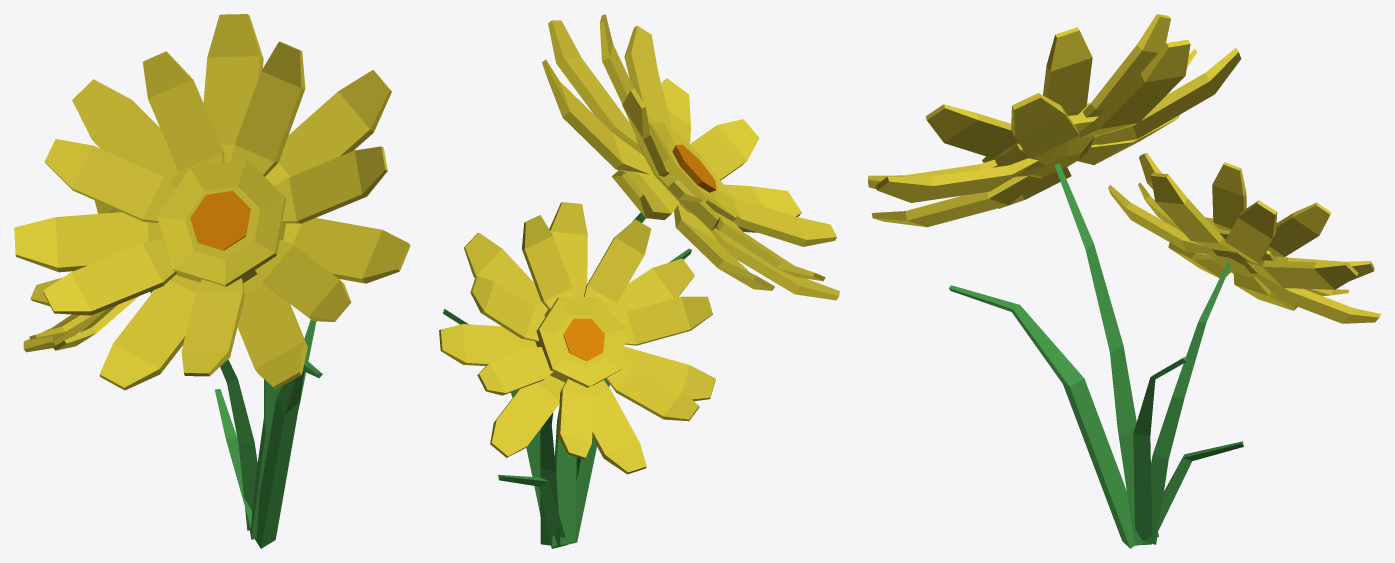
The picture shows the model from 3 angles, left to right: view 1: azimuth 30°, elevation 25°; view 2: azimuth 150°, elevation 25°; view 3: azimuth 270°, elevation 25°; orthographic projection. The views are drawn at different scales.
Visible parts, largest first — view 1: node_MeshObject-1859572352-PolyPaper10; view 2: node_MeshObject-1859572352-PolyPaper10; view 3: node_MeshObject-1859572352-PolyPaper10.
Part boxes in pixels (x1,y1,x2,y2): node_MeshObject-1859572352-PolyPaper10: (14, 14, 410, 548); node_MeshObject-1859572352-PolyPaper10: (439, 14, 839, 548); node_MeshObject-1859572352-PolyPaper10: (868, 14, 1380, 548).
Size of the model in its own units: 2.42 by 3.58 by 3.25.
